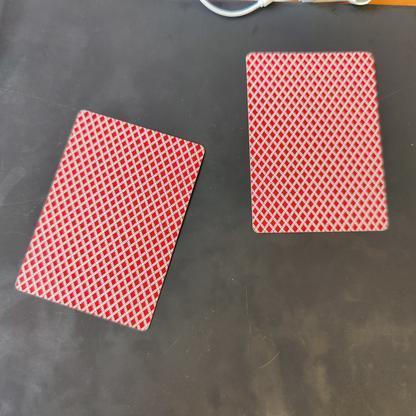card: (6, 103, 213, 349), (231, 38, 398, 247)
